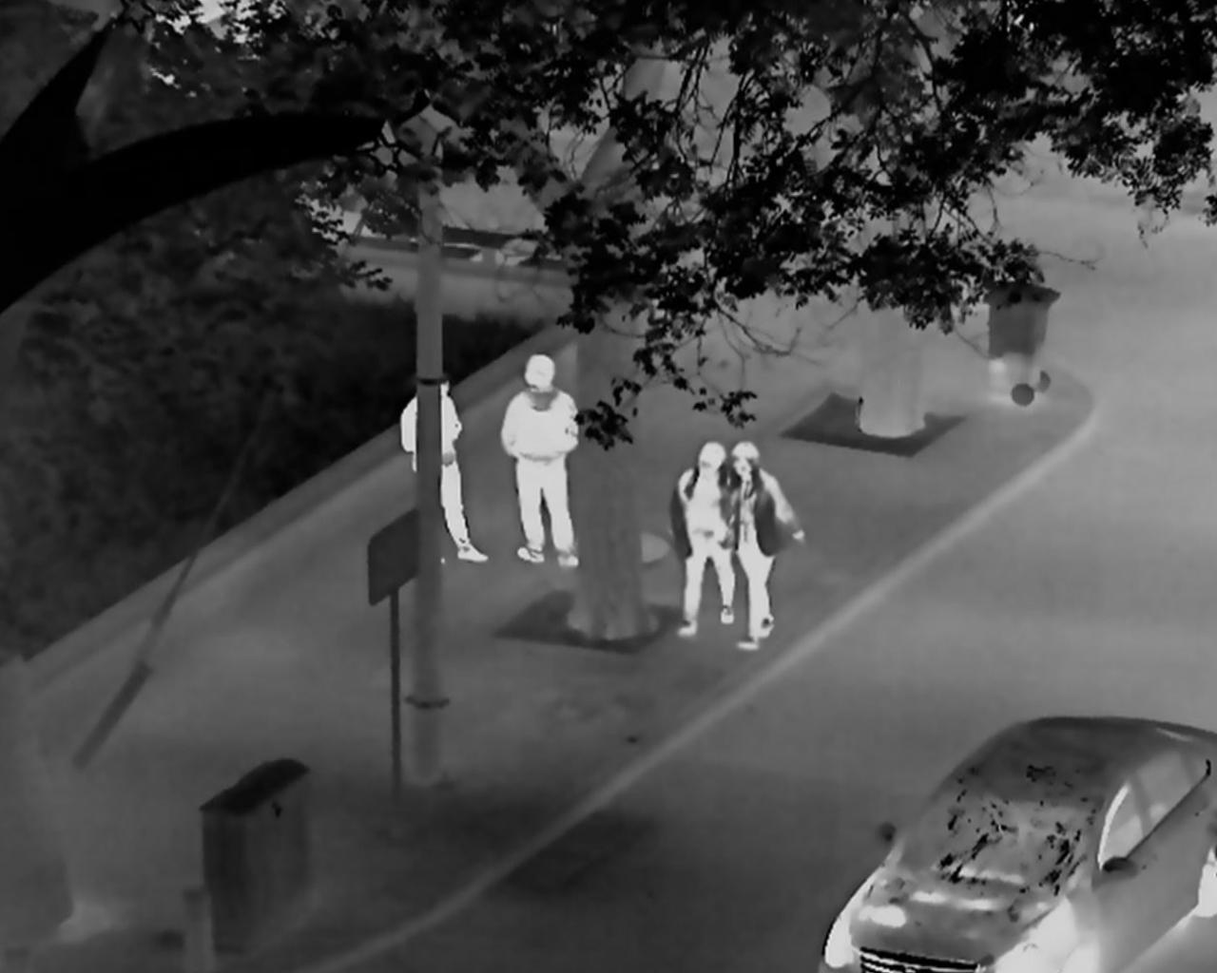person: (399, 376, 490, 565), (501, 352, 578, 569), (728, 441, 805, 654), (669, 440, 735, 636)
